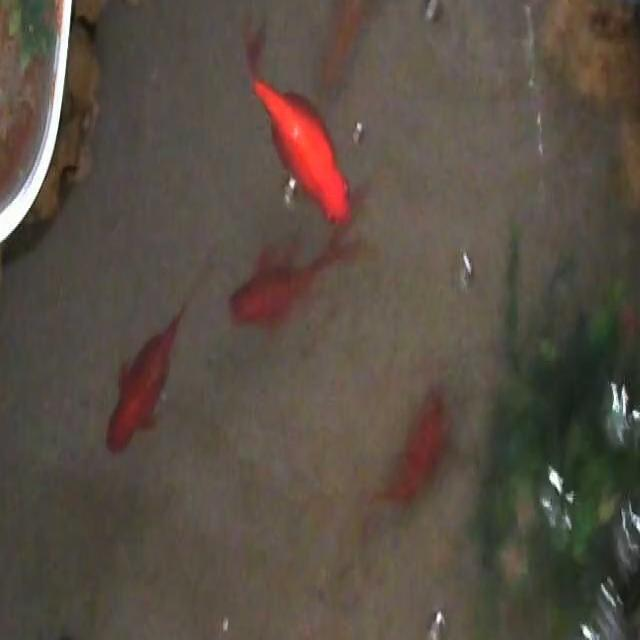fish: (239, 19, 353, 230), (225, 200, 368, 331), (104, 280, 204, 457), (366, 383, 454, 523), (319, 0, 373, 89)
